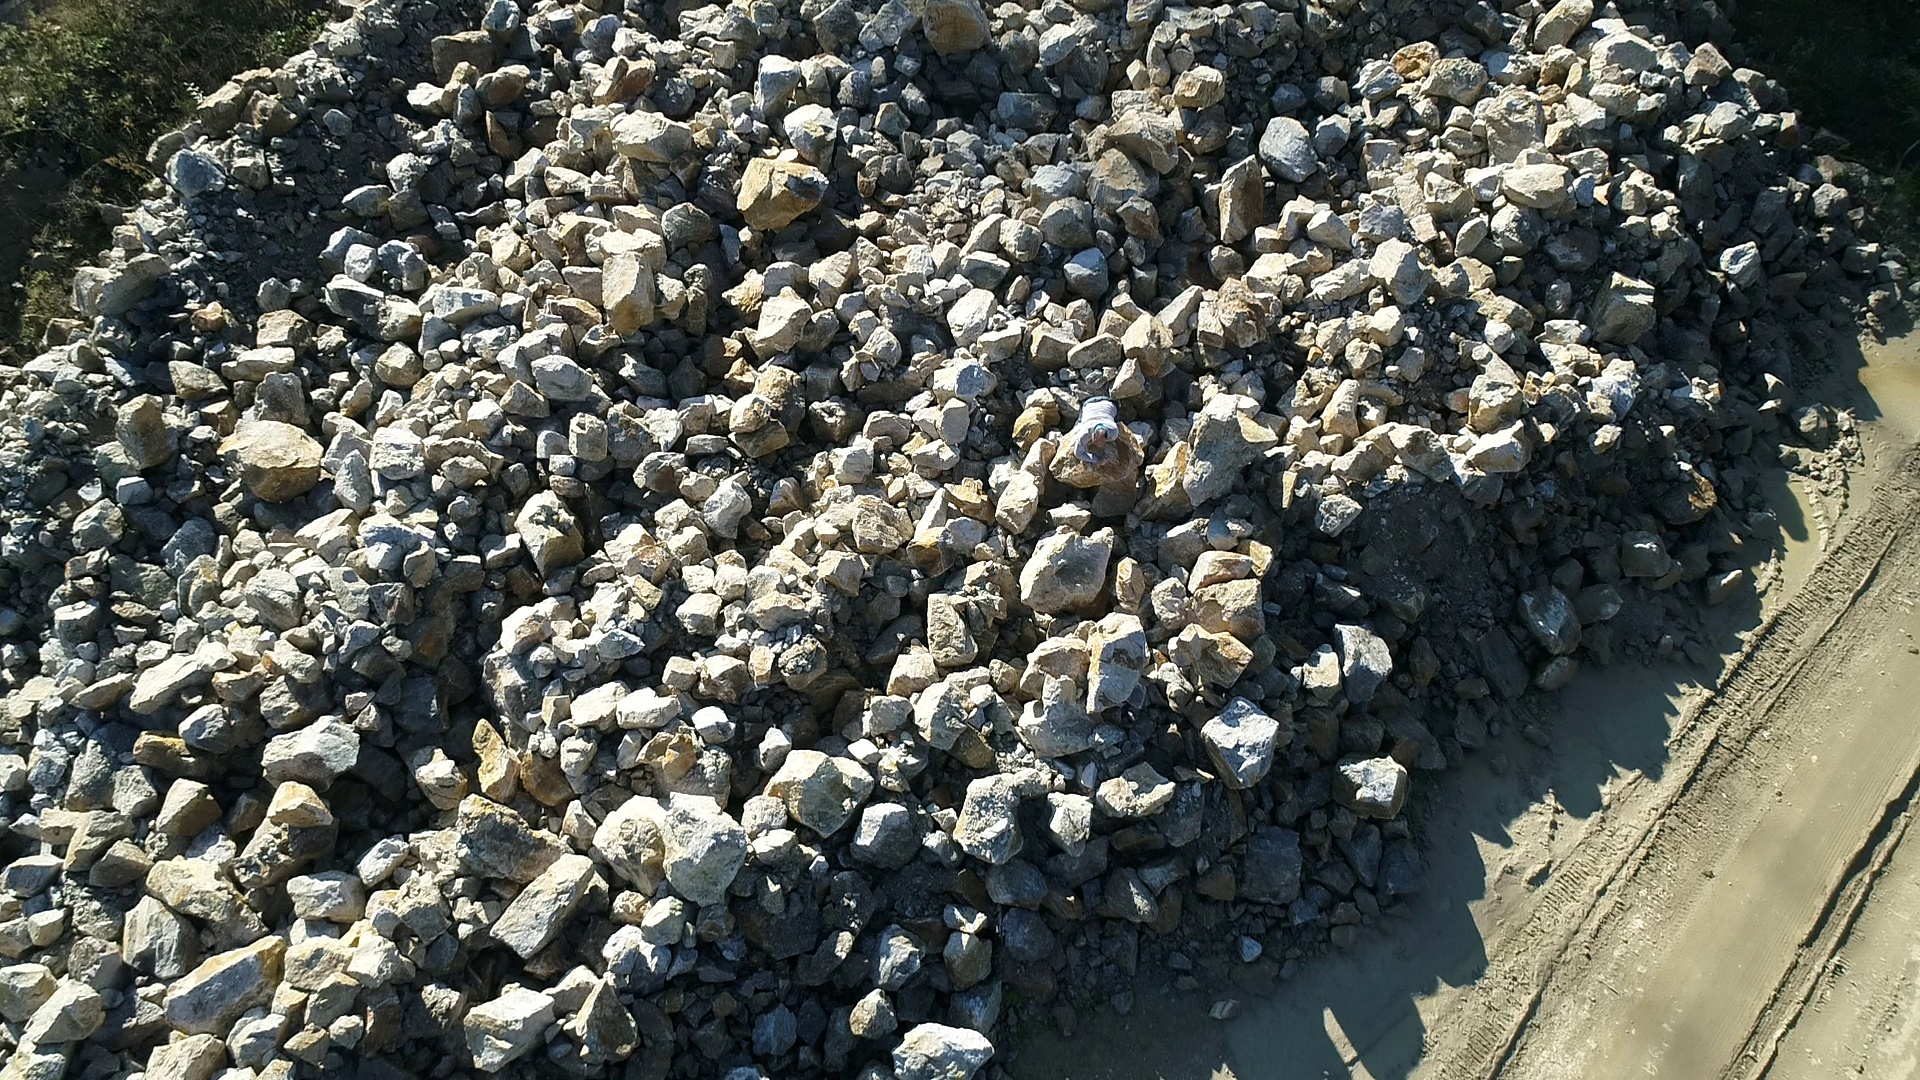person: (1074, 393, 1120, 466)
